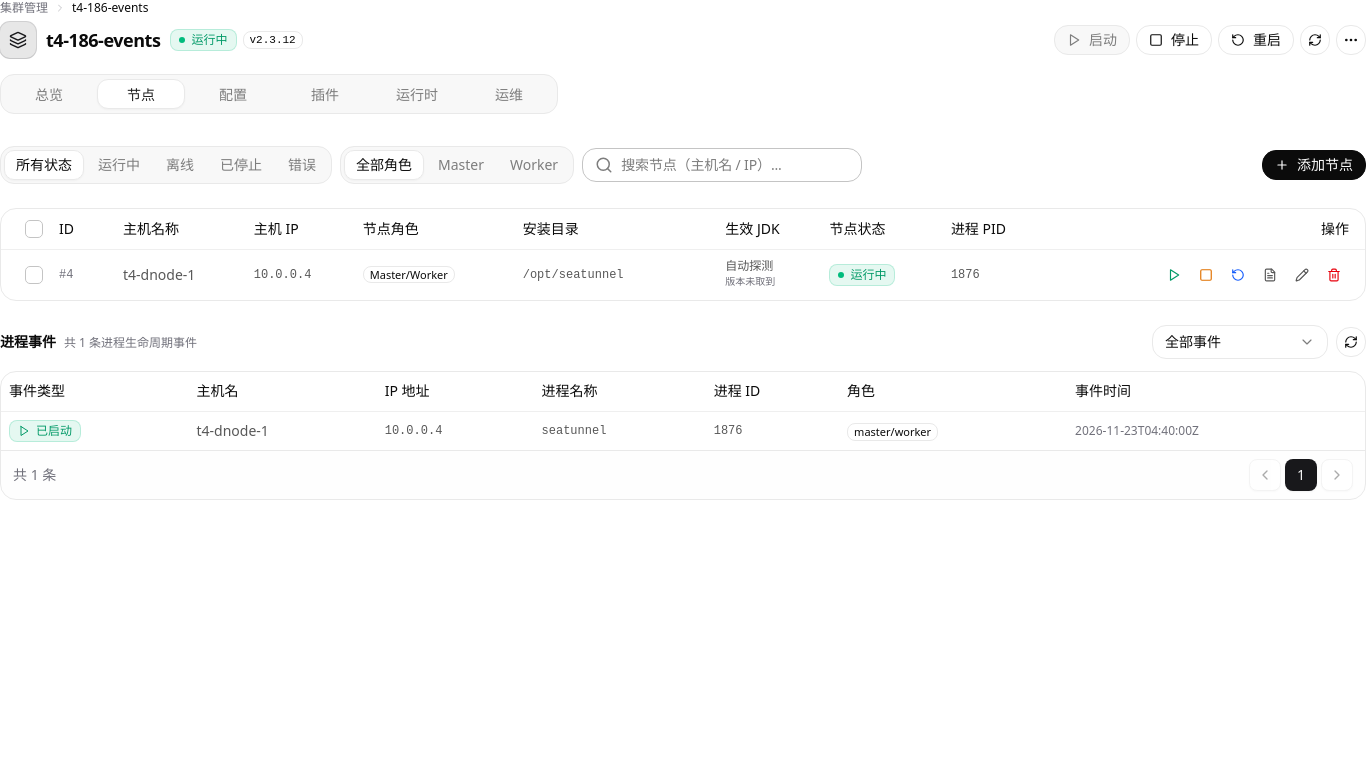
Test case: ClusterDetail restart entry integration (node + header) › node-row restart confirm: stay on page, old PID is not success, then PID+events update
Expected: the text "1876" in the row of "/opt/seatunnel" is shown, left=951, top=268, right=980, bottom=282
Click the button named "重启": (1238, 274) left=1223, top=260, right=1253, bottom=290
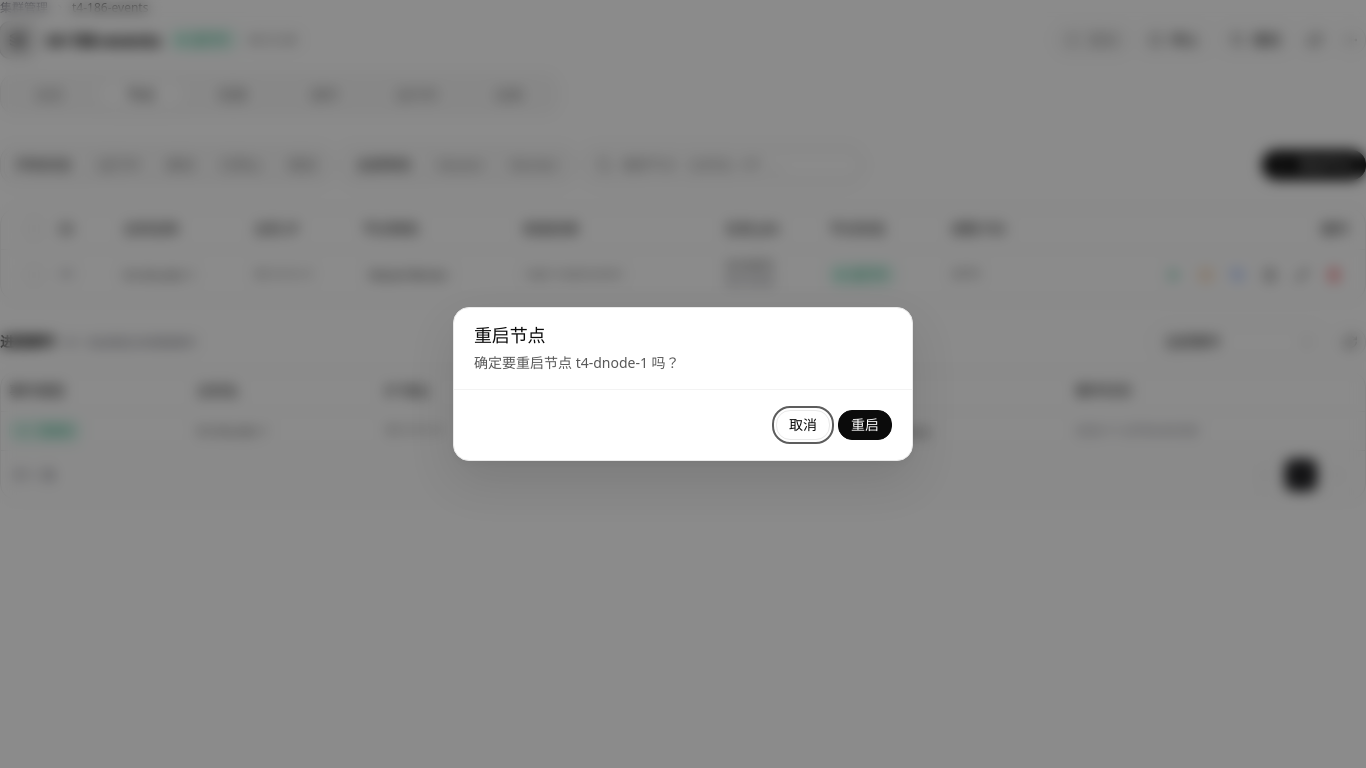
Result: the heading "重启节点" is shown at left=474, top=326, right=545, bottom=346
Click the button "重启": (865, 425) left=838, top=410, right=892, bottom=440
Wait 10000 ms
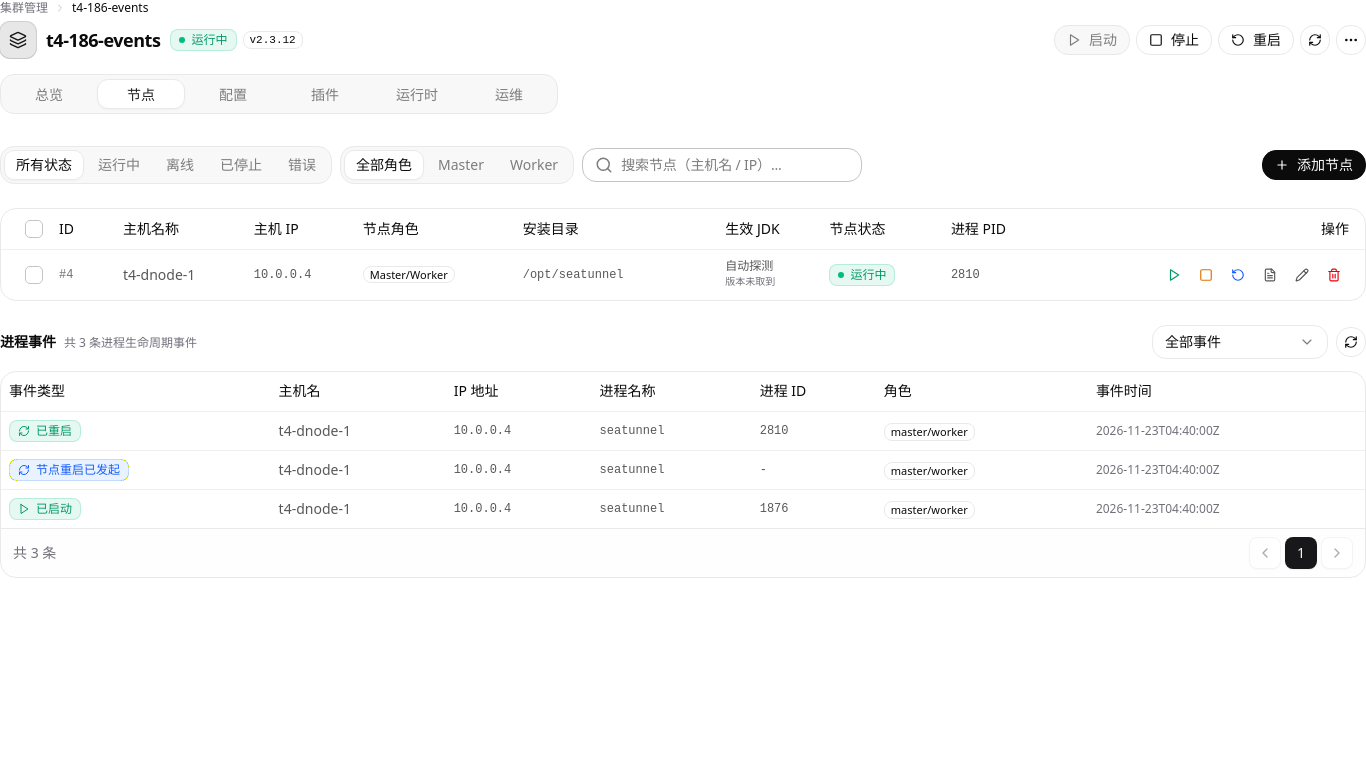
Result: the text "2810" in the row of "/opt/seatunnel" is shown at left=951, top=268, right=980, bottom=282
Result: the text "已重启" is shown at left=36, top=423, right=72, bottom=439
Result: the text "节点重启已发起" is shown at left=36, top=462, right=120, bottom=478
